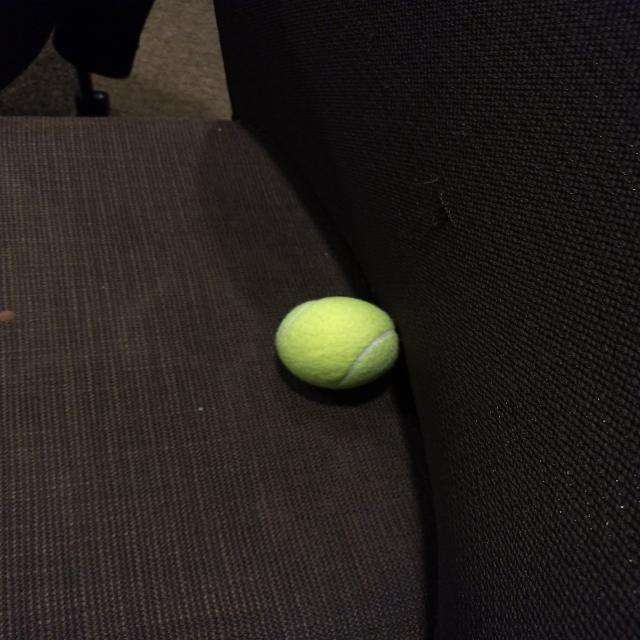Tennis-Ball: (277, 298, 401, 385)
